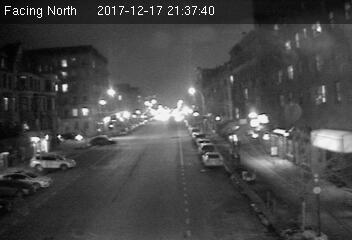car: (200, 153, 222, 166)
